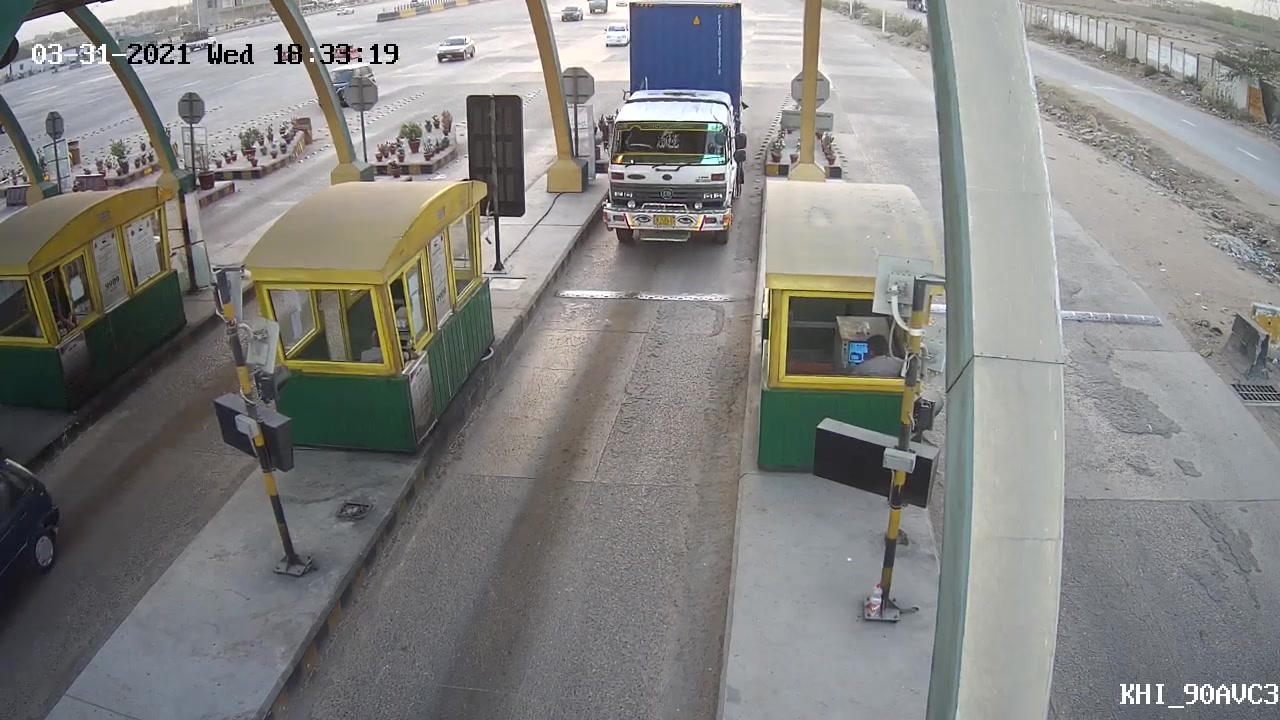F6: (582, 1, 756, 261)
